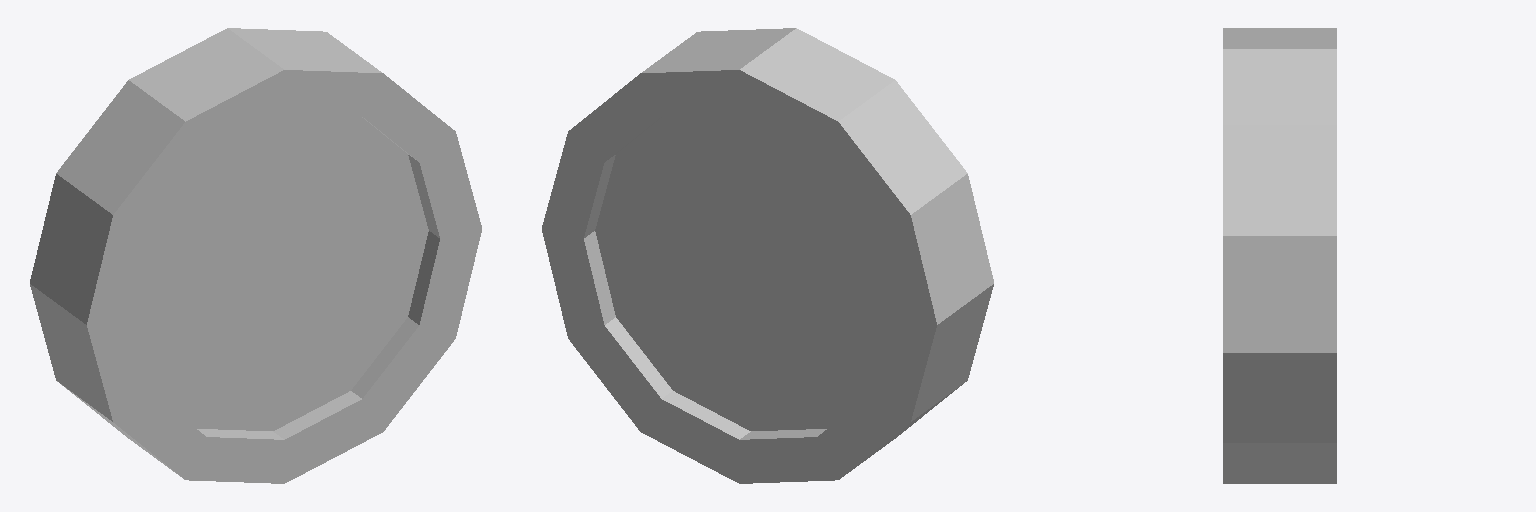
File: coin.obj
The picture shows the model from 3 angles: view 1: azimuth 30°, elevation 25°; view 2: azimuth 150°, elevation 25°; view 3: azimuth 270°, elevation 25°; orthographic projection.
Parts seen in each view (by area): view 1: coin_export_Cylinder.003; view 2: coin_export_Cylinder.003; view 3: coin_export_Cylinder.003.
Part boxes in pixels (x1,y1,x2,y2): coin_export_Cylinder.003: (30, 28, 481, 483); coin_export_Cylinder.003: (542, 28, 993, 483); coin_export_Cylinder.003: (1223, 28, 1336, 483).
Size of the model in its own units: 1 by 1 by 0.25.